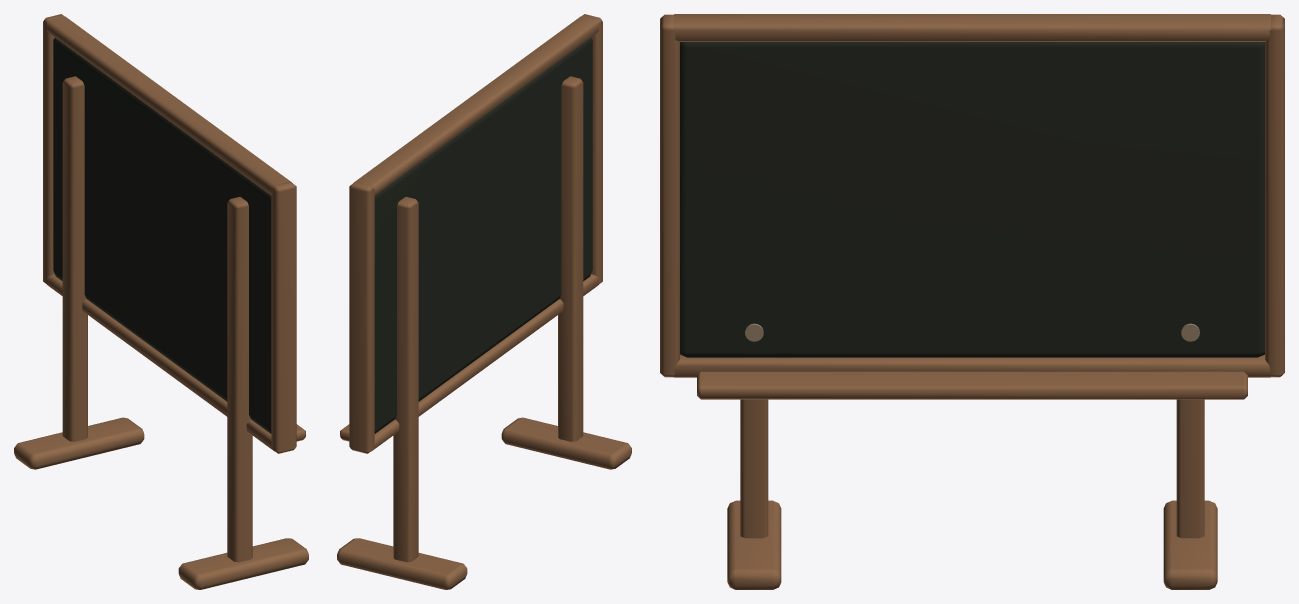
The picture shows the model from 3 angles, left to right: view 1: azimuth 30°, elevation 25°; view 2: azimuth 150°, elevation 25°; view 3: azimuth 270°, elevation 25°; orthographic projection. The views are drawn at different scales.
Visible parts, largest first — view 1: Mesh_BoardBacking, Mesh_TimberUpright_-0.93, Mesh_TimberUpright_0.93, Mesh_TimberSide_1.29, Mesh_TimberRail_2.51, Mesh_TimberFoot_0.93, Mesh_TimberFoot_-0.93, Mesh_TimberRail_0.93, Mesh_TimberSide_-1.29; view 2: Mesh_BoardBacking, Mesh_TimberUpright_0.93, Mesh_TimberUpright_-0.93, Mesh_TimberSide_-1.29, Mesh_TimberRail_2.51, Mesh_TimberFoot_-0.93, Mesh_TimberFoot_0.93, Mesh_TimberRail_0.93, Mesh_TimberSide_1.29; view 3: Mesh_BoardBacking, Mesh_TimberRail_2.51, Mesh_TimberTray, Mesh_TimberRail_0.93, Mesh_TimberSide_1.29, Mesh_TimberSide_-1.29, Mesh_TimberUpright_-0.93, Mesh_TimberUpright_0.93, Mesh_TimberFoot_-0.93, Mesh_TimberFoot_0.93.
Boxes of the visible parts, x1,y1,x2,y2 form: Mesh_BoardBacking: [53, 37, 271, 433]; Mesh_TimberUpright_-0.93: [62, 76, 87, 441]; Mesh_TimberUpright_0.93: [227, 196, 252, 562]; Mesh_TimberSide_1.29: [271, 181, 296, 453]; Mesh_TimberRail_2.51: [47, 16, 291, 195]; Mesh_TimberFoot_0.93: [178, 538, 308, 589]; Mesh_TimberFoot_-0.93: [14, 417, 144, 469]; Mesh_TimberRail_0.93: [47, 274, 274, 451]; Mesh_TimberSide_-1.29: [43, 14, 64, 284]; Mesh_BoardBacking: [374, 37, 592, 433]; Mesh_TimberUpright_0.93: [558, 76, 583, 441]; Mesh_TimberUpright_-0.93: [393, 196, 418, 562]; Mesh_TimberSide_-1.29: [349, 181, 374, 453]; Mesh_TimberRail_2.51: [354, 16, 598, 195]; Mesh_TimberFoot_-0.93: [337, 538, 467, 589]; Mesh_TimberFoot_0.93: [501, 417, 631, 469]; Mesh_TimberRail_0.93: [371, 274, 598, 451]; Mesh_TimberSide_1.29: [581, 14, 602, 284]; Mesh_BoardBacking: [680, 42, 1264, 357]; Mesh_TimberRail_2.51: [674, 14, 1270, 41]; Mesh_TimberTray: [697, 371, 1247, 399]; Mesh_TimberRail_0.93: [674, 354, 1270, 377]; Mesh_TimberSide_1.29: [660, 14, 679, 377]; Mesh_TimberSide_-1.29: [1265, 14, 1284, 377]; Mesh_TimberUpright_-0.93: [1176, 399, 1204, 538]; Mesh_TimberUpright_0.93: [740, 399, 768, 538]; Mesh_TimberFoot_-0.93: [1163, 500, 1217, 589]; Mesh_TimberFoot_0.93: [727, 500, 781, 589].
Bounding box in the file's own units: 0.75 × 2.55 × 2.67.
